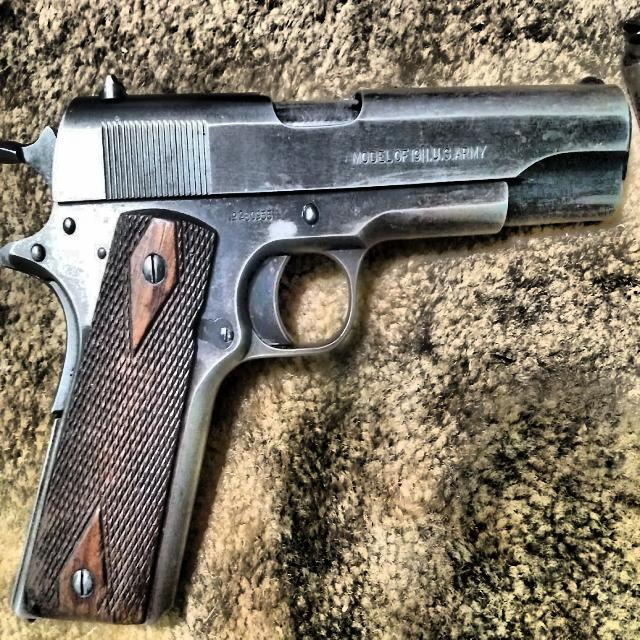Colt m1911: (1, 68, 633, 627)
